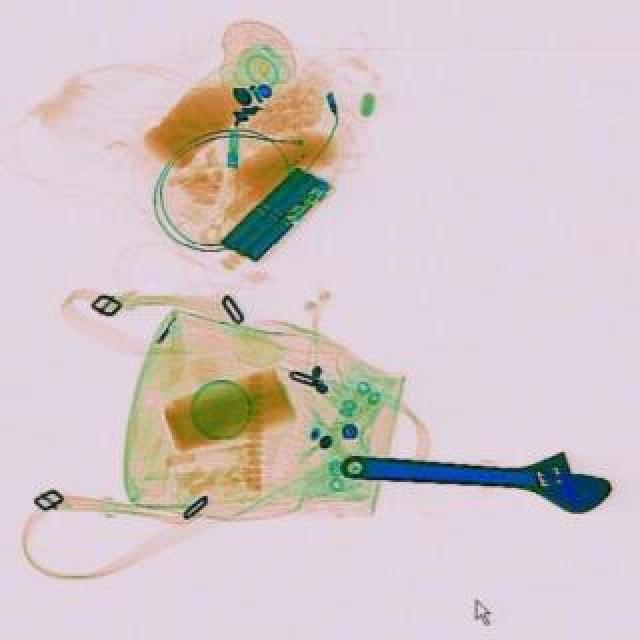scissors: (336, 432, 614, 514)
